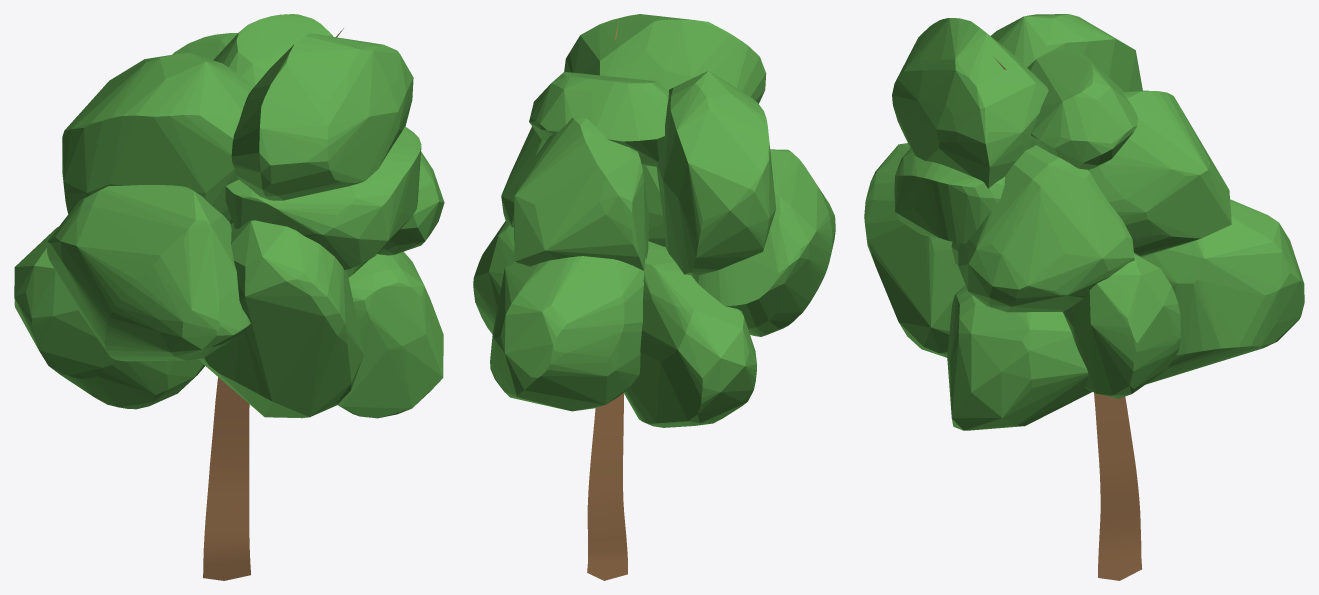
3 views of the same model, side by side, from view 1: azimuth 30°, elevation 25°; view 2: azimuth 150°, elevation 25°; view 3: azimuth 270°, elevation 25° (orthographic). The views are drawn at different scales.
Visible parts, largest first — view 1: brush_MatteHull_g0_b0_3, brush_Spikes_g0_b0_0; view 2: brush_MatteHull_g0_b0_3, brush_Spikes_g0_b0_0; view 3: brush_MatteHull_g0_b0_3, brush_Spikes_g0_b0_0.
Part boxes in pixels (x1,y1,x2,y2): brush_MatteHull_g0_b0_3: [14, 14, 444, 418]; brush_Spikes_g0_b0_0: [203, 28, 343, 580]; brush_MatteHull_g0_b0_3: [473, 14, 835, 427]; brush_Spikes_g0_b0_0: [587, 20, 627, 580]; brush_MatteHull_g0_b0_3: [864, 14, 1304, 430]; brush_Spikes_g0_b0_0: [993, 56, 1142, 580].
Bounding box in the file's own units: 3.32 × 5.27 × 3.79.
